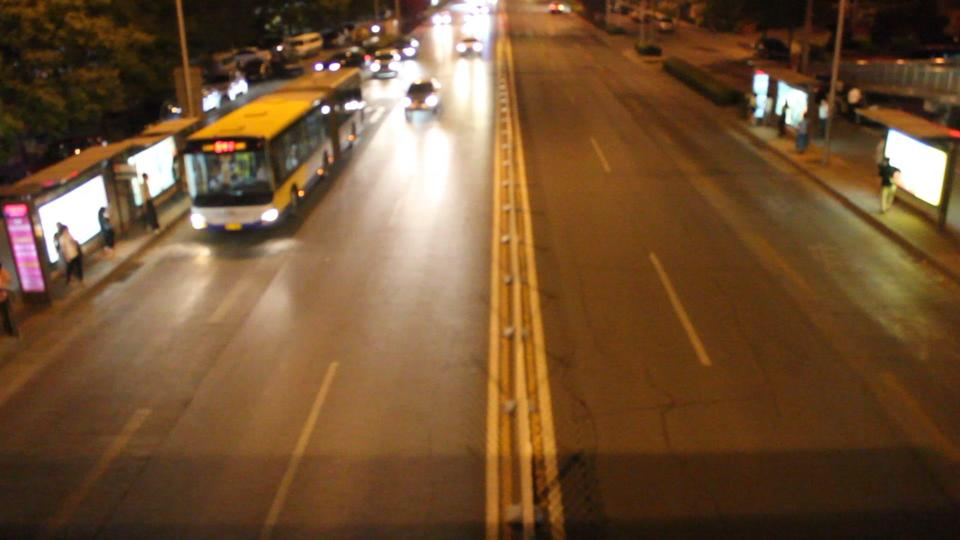bus: (172, 66, 364, 241)
car: (402, 78, 443, 114), (313, 48, 367, 74), (370, 50, 400, 77), (455, 36, 484, 57)
microbus: (280, 30, 322, 58)
